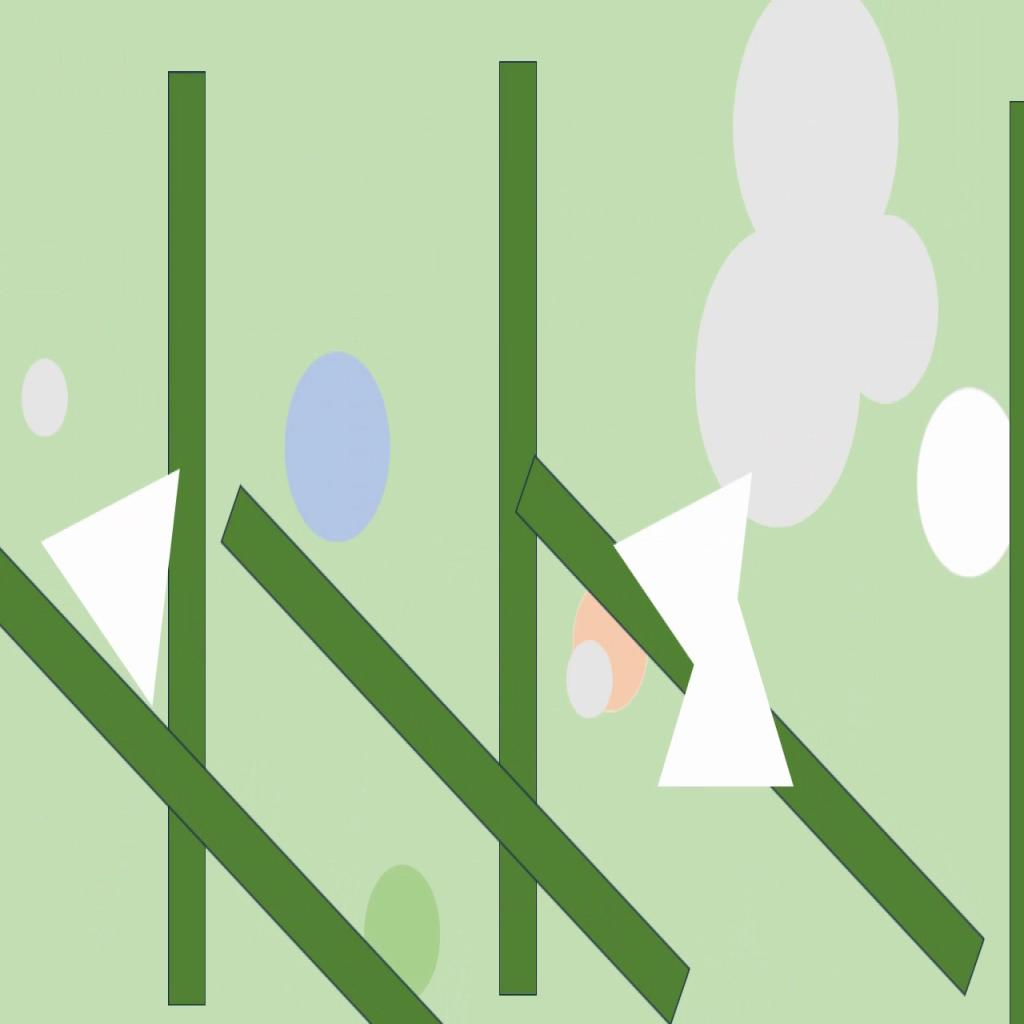Circle: (695, 228, 861, 530), (733, 0, 899, 268), (828, 210, 939, 406), (285, 350, 392, 547), (917, 389, 1016, 583), (361, 862, 441, 1002), (573, 576, 650, 713), (20, 358, 68, 440), (565, 642, 613, 721)
